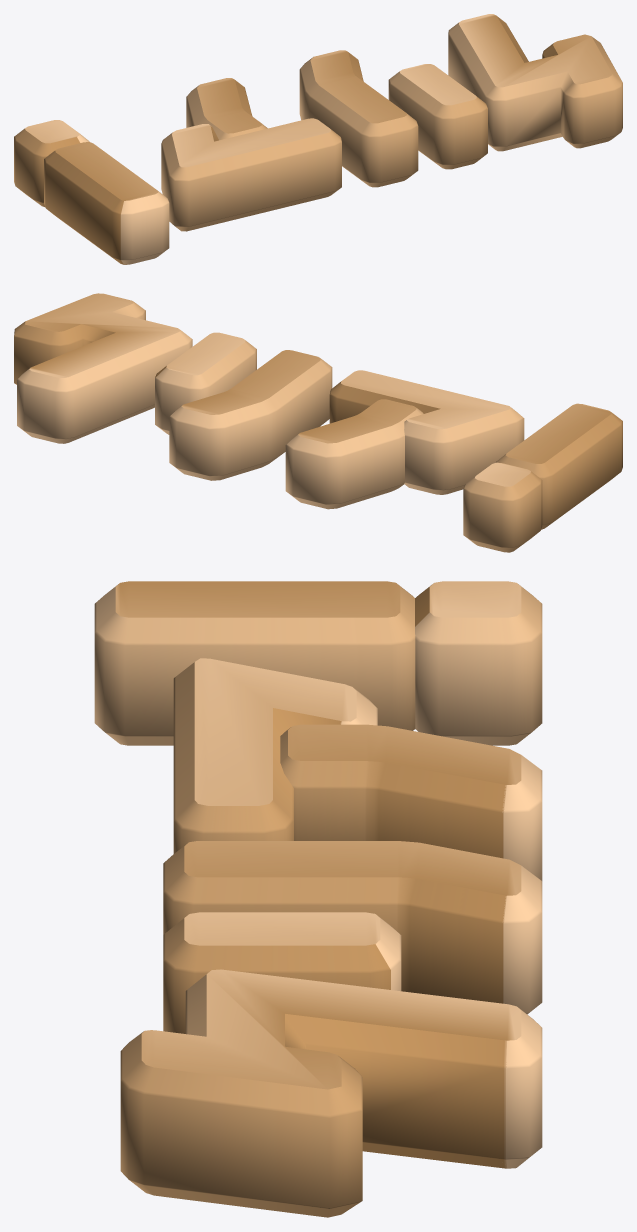
File: clear.obj
3 renders of one model, top to bottom at view 1: azimuth 30°, elevation 25°; view 2: azimuth 150°, elevation 25°; view 3: azimuth 270°, elevation 25°, orthographic. The views are drawn at different scales.
Parts seen in each view (by area): view 1: テキスト; view 2: テキスト; view 3: テキスト.
Part boxes in pixels (x1,y1,x2,y2): テキスト: [14, 14, 622, 264]; テキスト: [14, 293, 622, 552]; テキスト: [94, 581, 542, 1217].
Bounding box in the file's own units: 6.52 × 0.74 × 2.34.
1 material, 1 textured.
